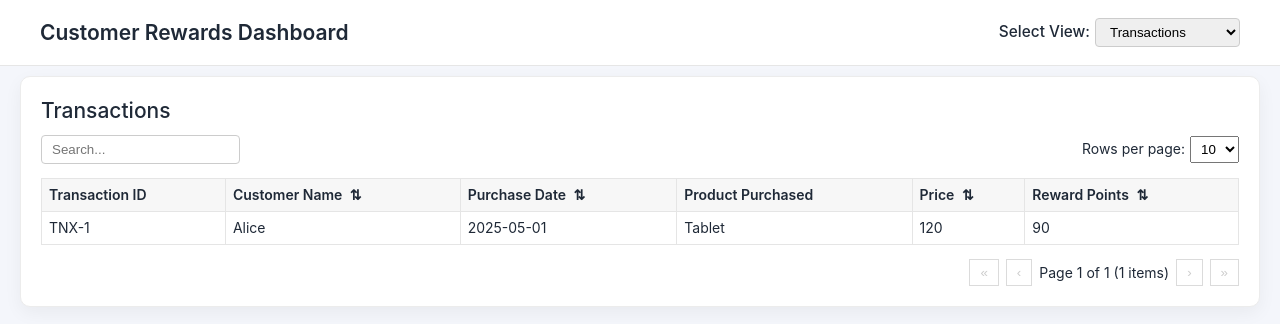
Scenario: App › shows Monthly Rewards columns after selecting that view
The width and height of the screenshot is (1280, 324).
Select "Monthly Rewards" in the dropdown labelled "Select View:". click: point(1168, 32)
box: [1095,18,1240,47]
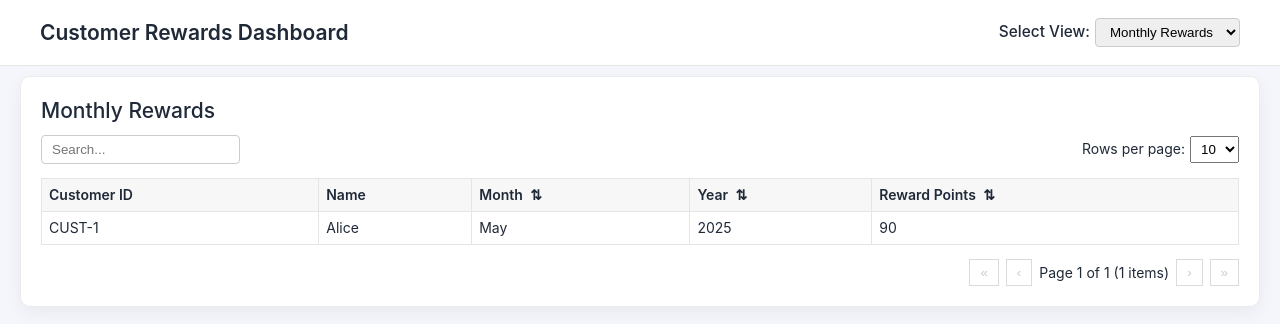
Check: the text "Month" is shown, box [479,186,523,203]
